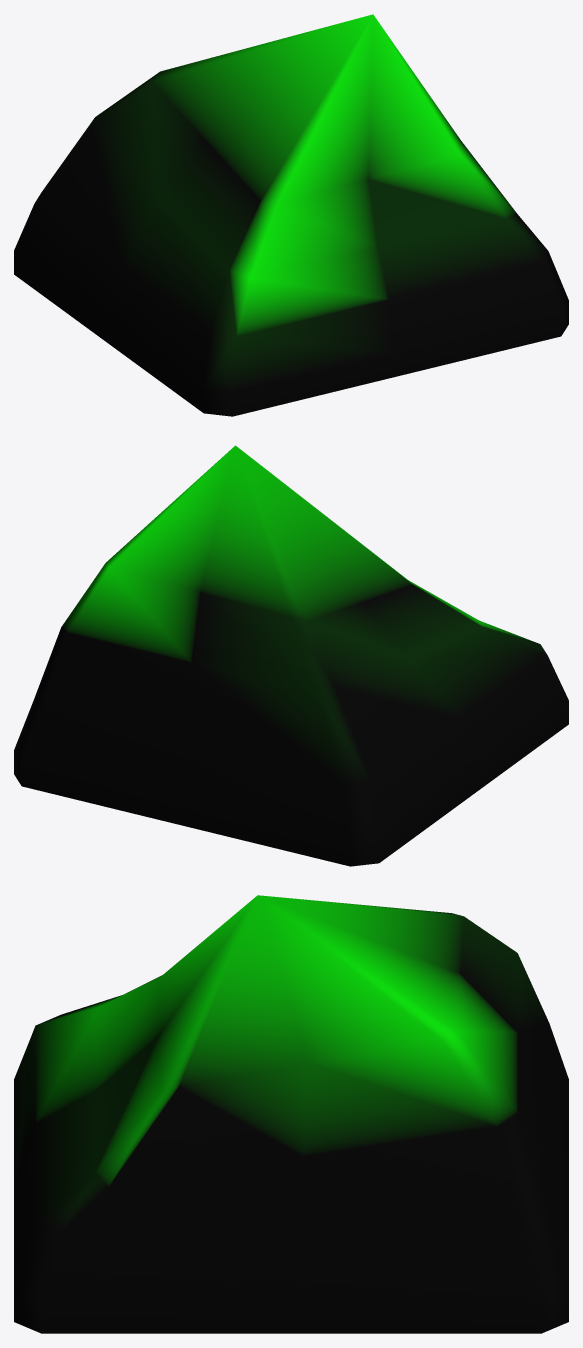
Rendered from SM_CliffCap.fbx.
3 renders of one model, top to bottom at view 1: azimuth 30°, elevation 25°; view 2: azimuth 150°, elevation 25°; view 3: azimuth 270°, elevation 25°, orthographic. The views are drawn at different scales.
Parts seen in each view (by area): view 1: SM_CliffCap; view 2: SM_CliffCap; view 3: SM_CliffCap.
Boxes of the visible parts, <box> form: SM_CliffCap: <box>14,14,568,416</box>; SM_CliffCap: <box>14,445,568,866</box>; SM_CliffCap: <box>14,895,568,1333</box>.
Bounding box in the file's own units: 500 × 363 × 500.
